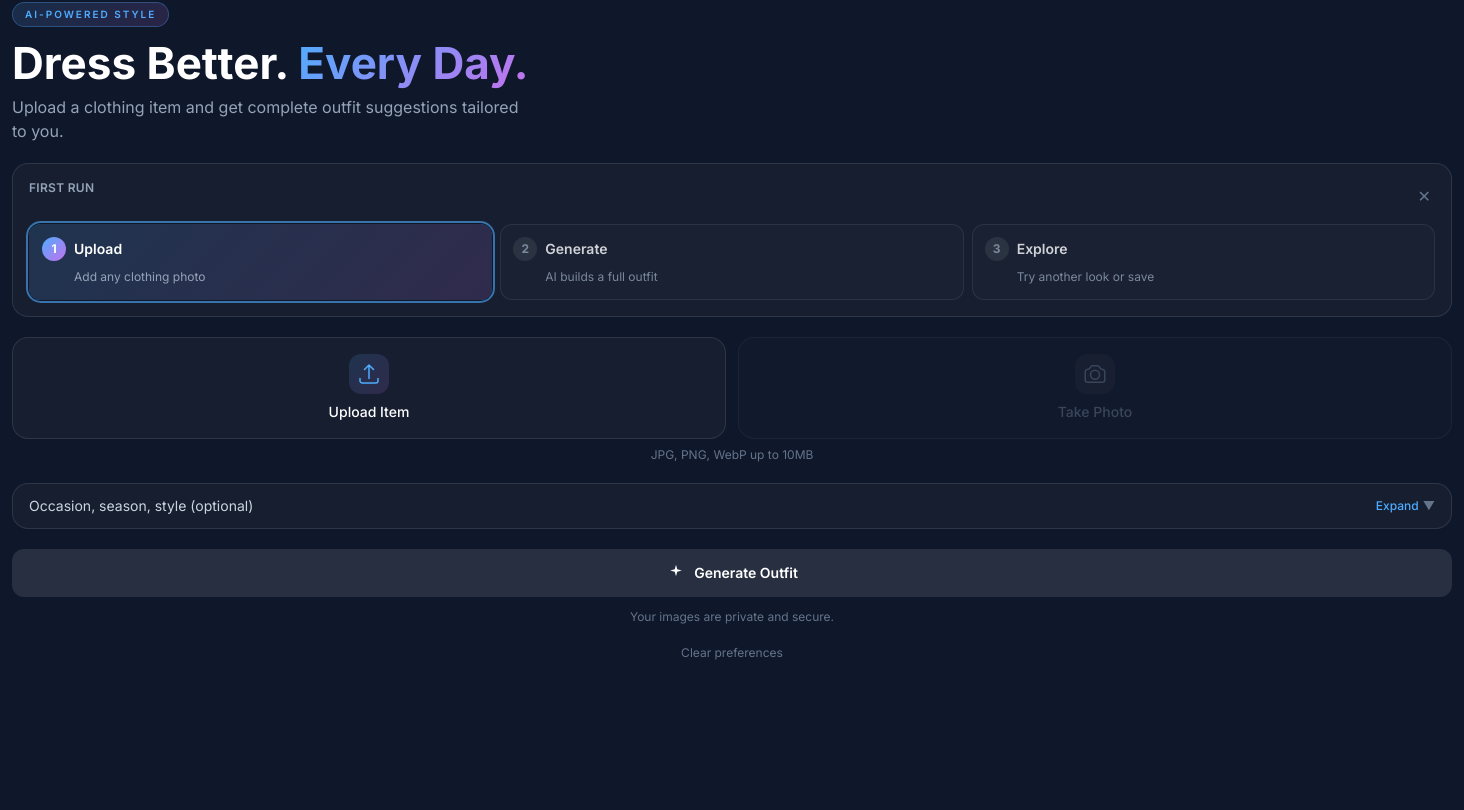
Scenario: Sidebar file validation › first-run coach and preferences › expand reveals occasion, season, and style controls without Colors field
What coordinates should you click on to do the following:
click the button with test id "first-run-prefs-collapsed"
I would click on:
 (141, 505)
Its box is [12,482,1452,528].
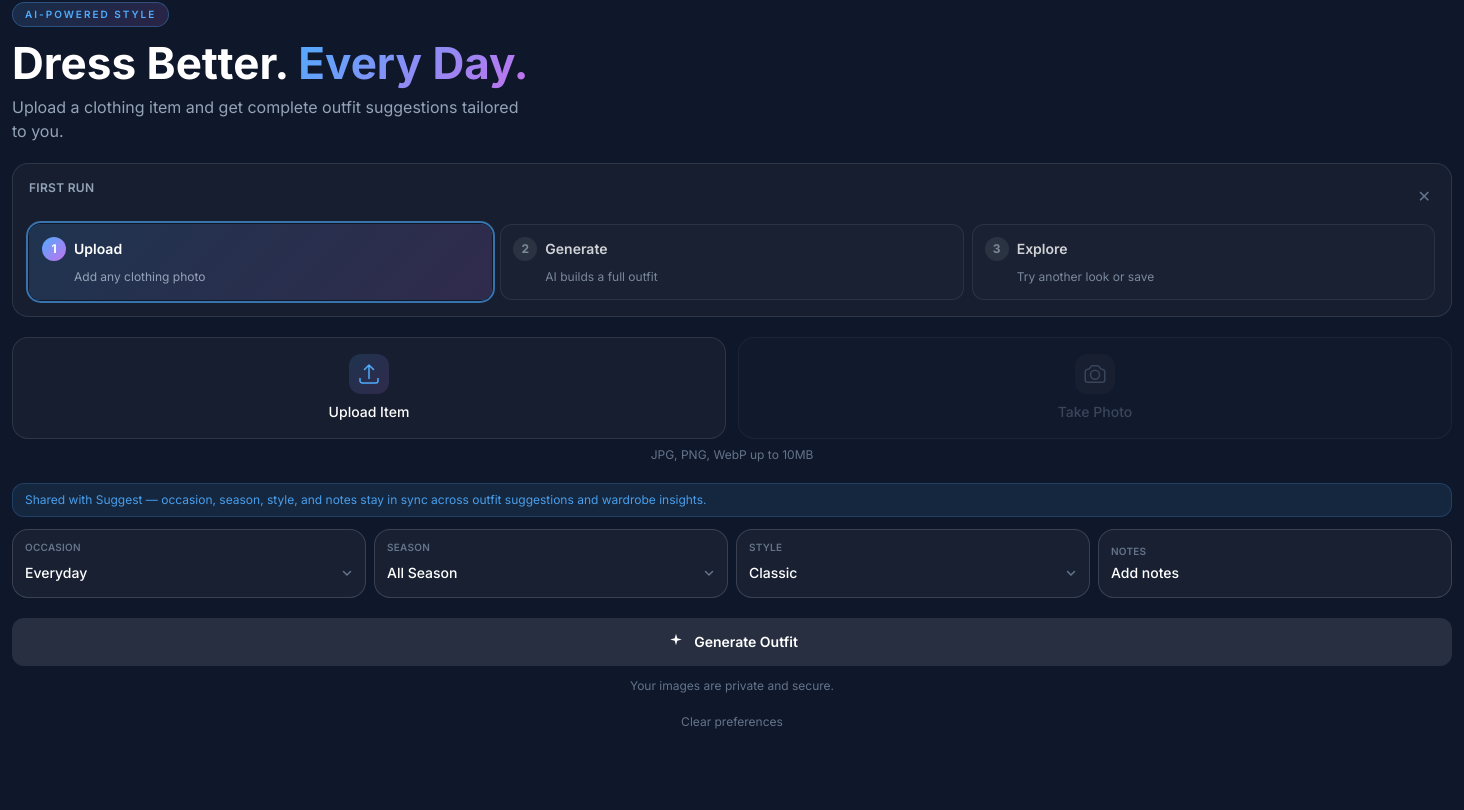
Check: the dropdown named "Select occasion" is shown, box [25,558,353,586]
Check: the dropdown named "Select season" is shown, box [387,558,715,586]
Check: the dropdown named "Select style preference" is shown, box [749,558,1077,586]
